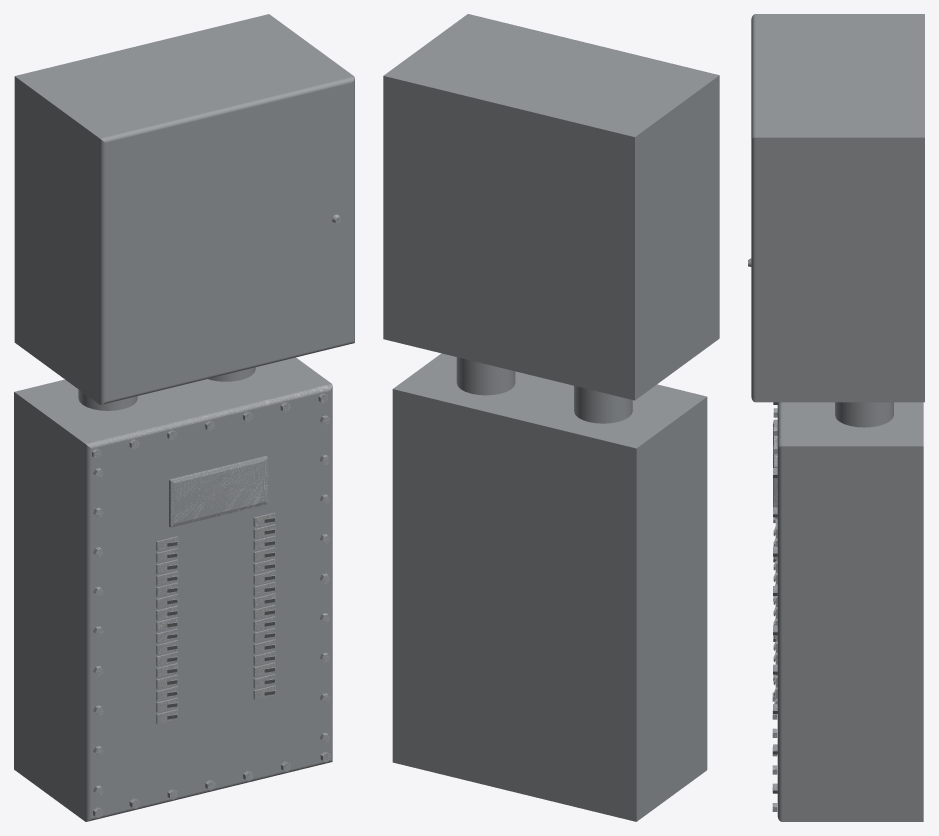
File: gab2.fbx
3 renders of one model, left to right at view 1: azimuth 30°, elevation 25°; view 2: azimuth 150°, elevation 25°; view 3: azimuth 270°, elevation 25°, orthographic.
Visible parts, largest first — view 1: SketchUp_1; view 2: SketchUp_1; view 3: SketchUp_1.
Part boxes in pixels (x1,y1,x2,y2): SketchUp_1: [14, 14, 354, 821]; SketchUp_1: [383, 14, 719, 821]; SketchUp_1: [748, 14, 924, 821].
Size of the model in its own units: 16.06 by 41.61 by 9.69.
5 materials, 5 textured.
